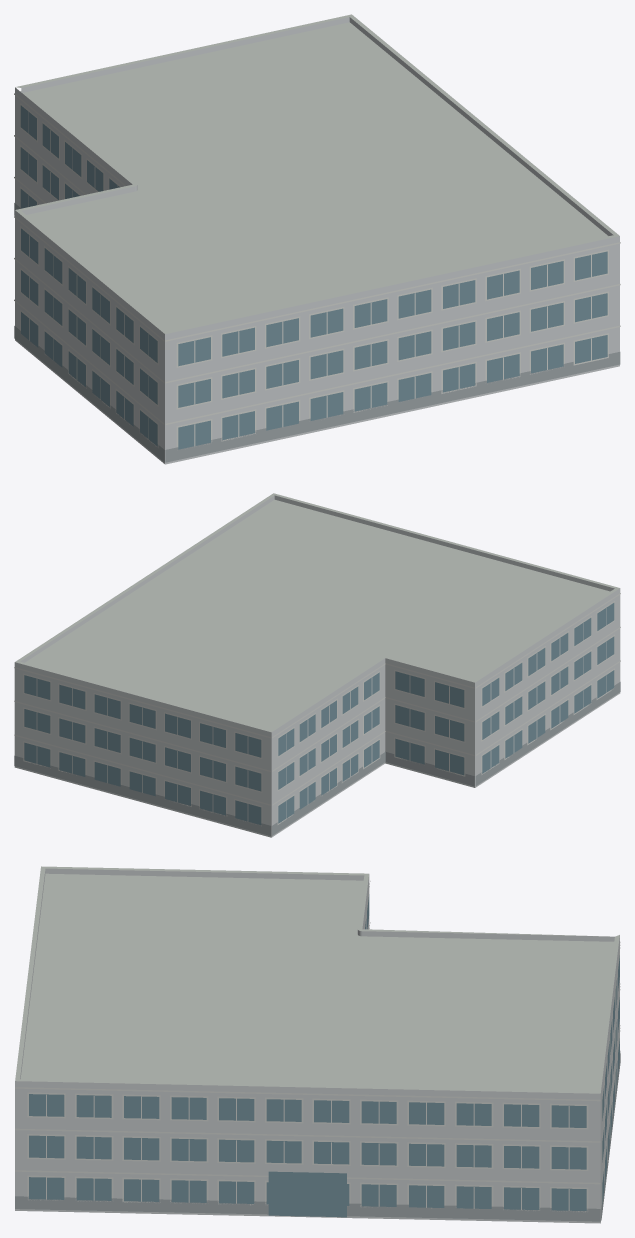
Rendered from public-edb373b5-ce87-45a5-ae13-1c2ebfcc14da.glb.
The picture shows the model from 3 angles, top to bottom: view 1: azimuth 30°, elevation 25°; view 2: azimuth 150°, elevation 25°; view 3: azimuth 270°, elevation 25°; orthographic projection. The views are drawn at different scales.
Visible parts, largest first — view 1: public-edb373b5-ce87-45a5-ae13-1c2ebfcc14da; view 2: public-edb373b5-ce87-45a5-ae13-1c2ebfcc14da; view 3: public-edb373b5-ce87-45a5-ae13-1c2ebfcc14da.
Part boxes in pixels (x1,y1,x2,y2): public-edb373b5-ce87-45a5-ae13-1c2ebfcc14da: (14,14,620,464); public-edb373b5-ce87-45a5-ae13-1c2ebfcc14da: (14,493,620,837); public-edb373b5-ce87-45a5-ae13-1c2ebfcc14da: (15,866,620,1223).
Size of the model in its own units: 34.83 by 9.15 by 38.79.
